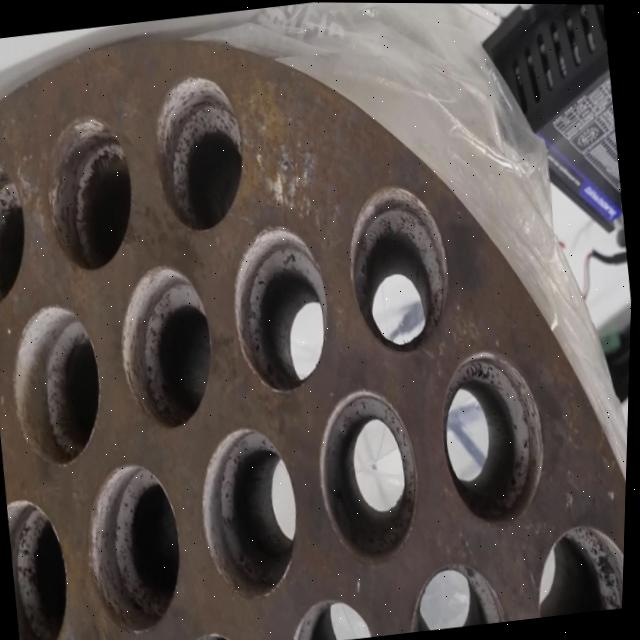Hole: (309, 381, 432, 569), (433, 344, 555, 529), (339, 178, 461, 358), (192, 420, 311, 602), (79, 457, 194, 638), (223, 219, 339, 398), (110, 259, 223, 433), (2, 299, 112, 469), (144, 68, 254, 235), (36, 109, 143, 276), (5, 494, 83, 640), (528, 517, 628, 617), (403, 556, 512, 633), (0, 153, 36, 308), (281, 592, 383, 640), (165, 625, 259, 640)
